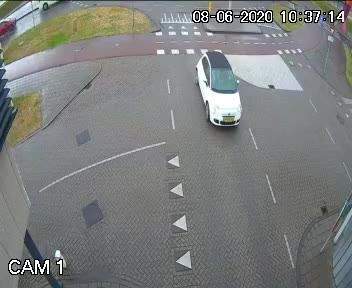car: (191, 44, 245, 134)
